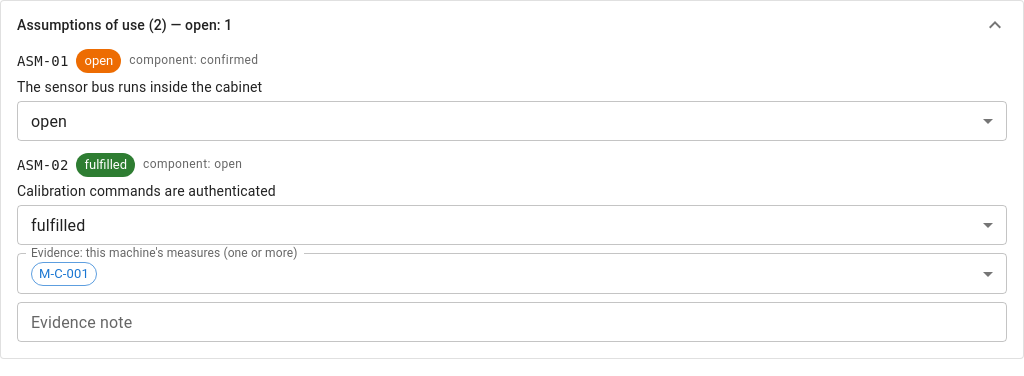
Test: ComponentAssumptionsChecklist › the chosen measures show as chips, with their full text in a tooltip
This screenshot has width=1024, height=376.
Expected: the text "M-C-001" is shown, [31,262,97,286]
Step 1. Hover over the element showing "Evidence: this machine's measures (one or more) M-C-001" → (512,274), box [17,253,1007,294]
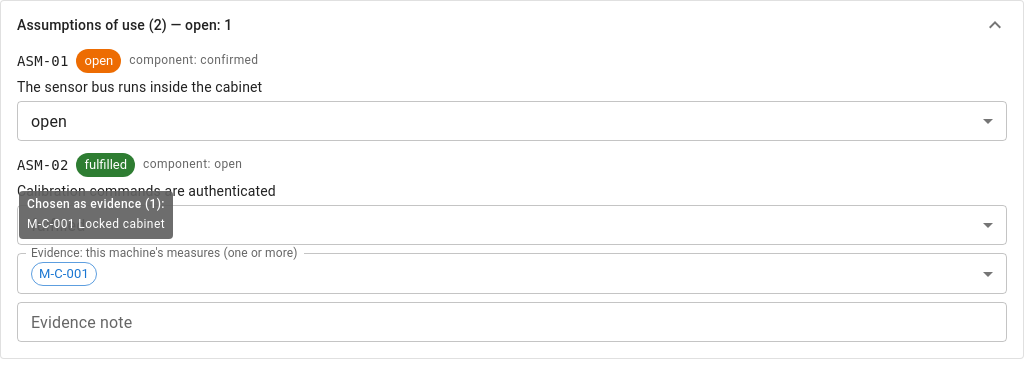
Expected: the element with test id "component-assumption-measures-tooltip-ASM-02" is shown, [27,195,165,235]
Expected: the element with test id "component-assumption-measures-tooltip-ASM-02" shows "Chosen as evidence (1):", [27,197,165,211]
Expected: the element with test id "component-assumption-measures-tooltip-ASM-02" shows "M-C-001 Locked cabinet", [27,217,165,231]
